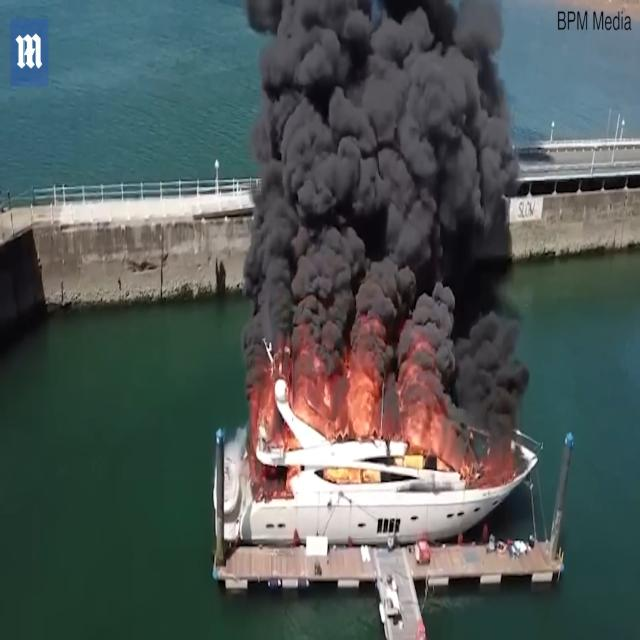fire: (275, 0, 443, 357), (218, 0, 366, 304), (396, 191, 474, 295)
